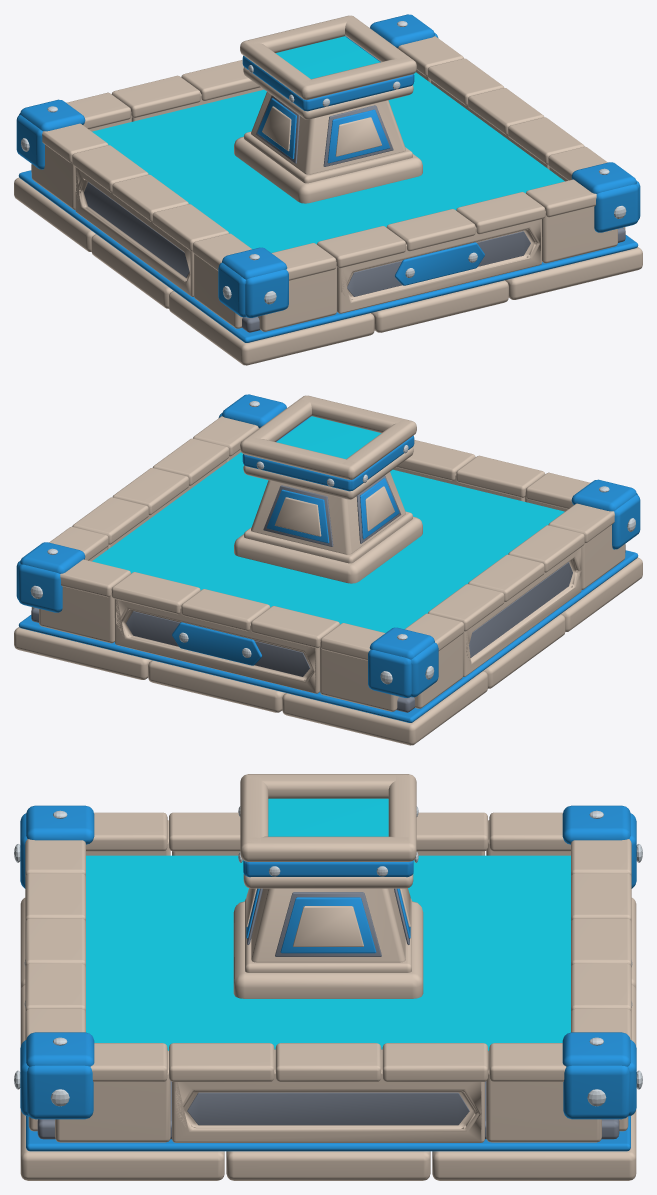
Rendered from water_fountain.fbx.
The picture shows the model from 3 angles, top to bottom: view 1: azimuth 30°, elevation 25°; view 2: azimuth 150°, elevation 25°; view 3: azimuth 270°, elevation 25°; orthographic projection. The views are drawn at different scales.
Parts seen in each view (by area): view 1: water_fountain_LOD0, BasinWater, UpperBowlWater; view 2: water_fountain_LOD0, BasinWater, UpperBowlWater; view 3: water_fountain_LOD0, BasinWater, UpperBowlWater.
Part boxes in pixels (x1=…): water_fountain_LOD0: x1=14, y1=14, x2=642, y2=365; BasinWater: x1=92, y1=72, x2=564, y2=252; UpperBowlWater: x1=275, y1=36, x2=379, y2=78; water_fountain_LOD0: x1=14, y1=394, x2=642, y2=745; BasinWater: x1=92, y1=452, x2=564, y2=632; UpperBowlWater: x1=277, y1=416, x2=381, y2=458; water_fountain_LOD0: x1=14, y1=774, x2=642, y2=1180; BasinWater: x1=86, y1=855, x2=570, y2=1050; UpperBowlWater: x1=268, y1=798, x2=388, y2=836.
Size of what is drawn, in the model's own units: 5.6 by 2.4 by 5.6.
